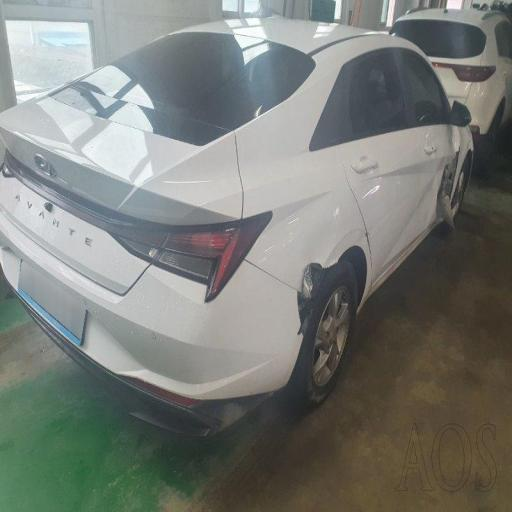broken: (147, 123, 368, 366)
